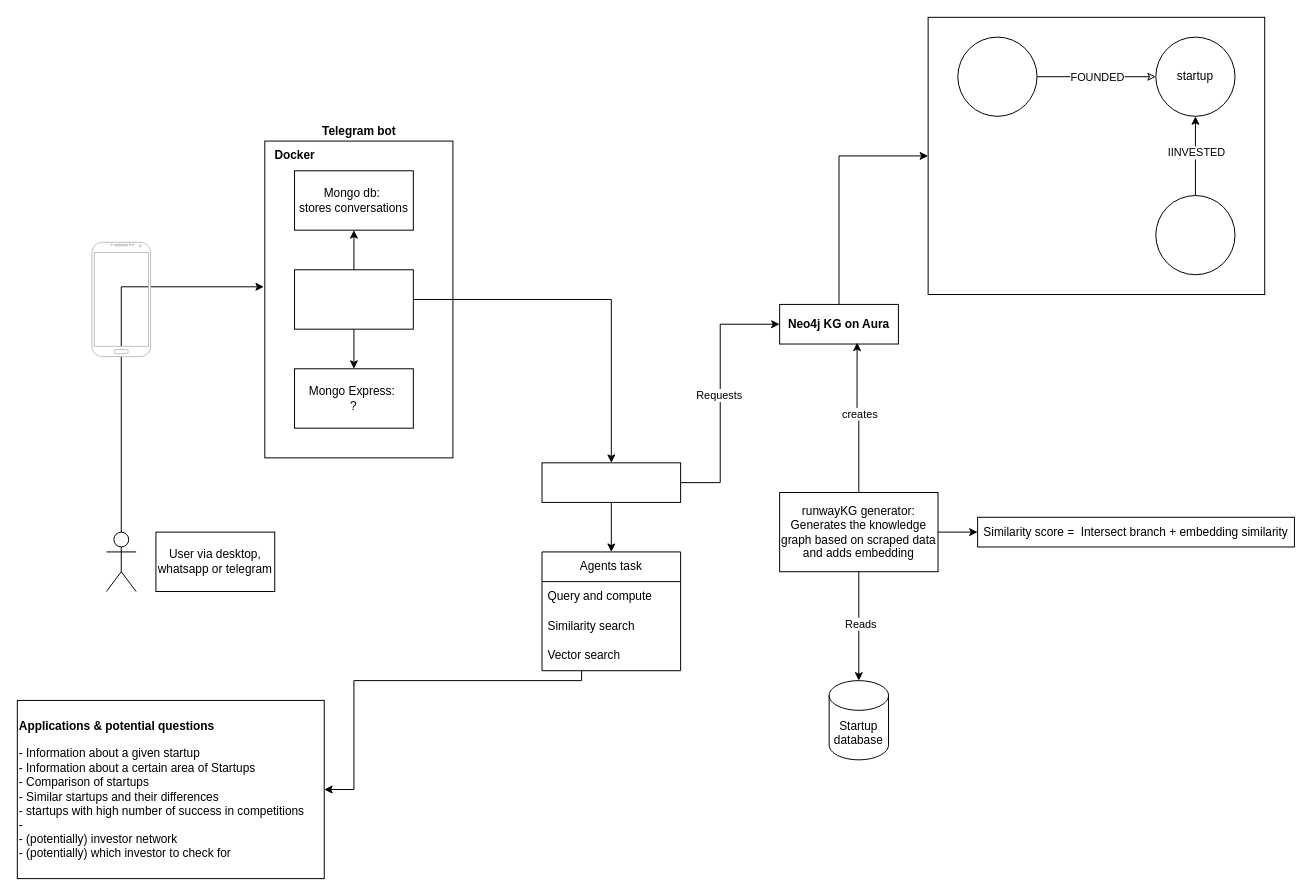
Some shapes in this 1312 by 896 pixel diagram are drawn without their labels. Each missing label, with the centre of its shape:
"Actor" goes at (x=120, y=561).
"Agent" goes at (x=611, y=482).
"Bot.py: Runs the bots" goes at (x=353, y=299).
"Founder" goes at (x=997, y=76).
"Investor" goes at (x=1195, y=235).
